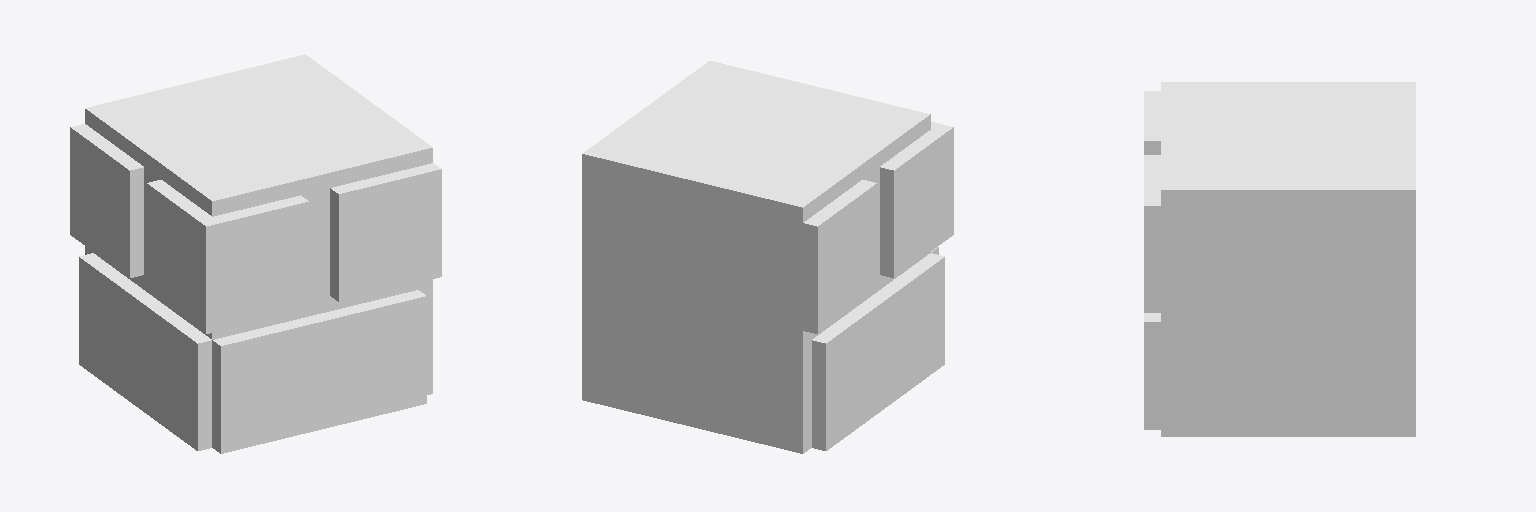
The model's file is Dungeon-3-Wall-Corner.obj.
3 views of the same model, side by side, from view 1: azimuth 30°, elevation 25°; view 2: azimuth 150°, elevation 25°; view 3: azimuth 270°, elevation 25° (orthographic).
Parts seen in each view (by area): view 1: Wall-Corner; view 2: Wall-Corner; view 3: Wall-Corner.
Boxes of the visible parts, <box> form: Wall-Corner: <box>70,54,441,453</box>; Wall-Corner: <box>582,61,953,453</box>; Wall-Corner: <box>1144,82,1415,436</box>.
Bounding box in the file's own units: 1.6 × 1.6 × 1.6.